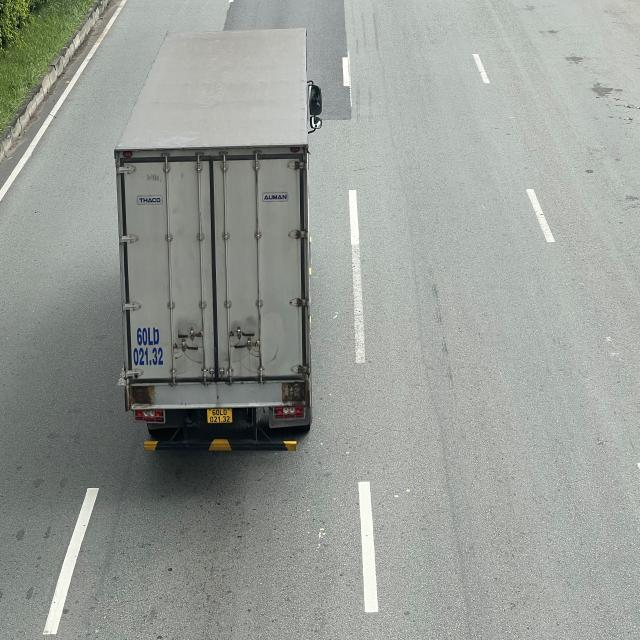truck: (116, 26, 320, 454)
